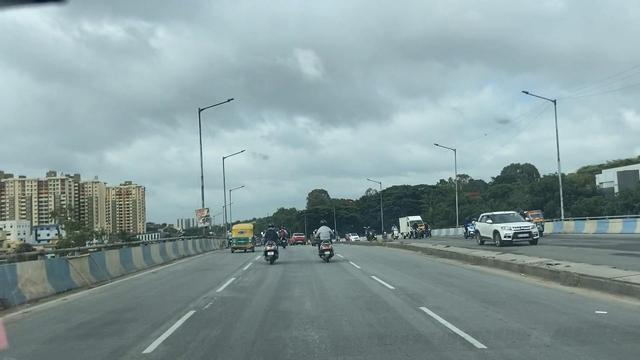LMV: (263, 226, 282, 263), (317, 221, 332, 263), (232, 221, 251, 253)
